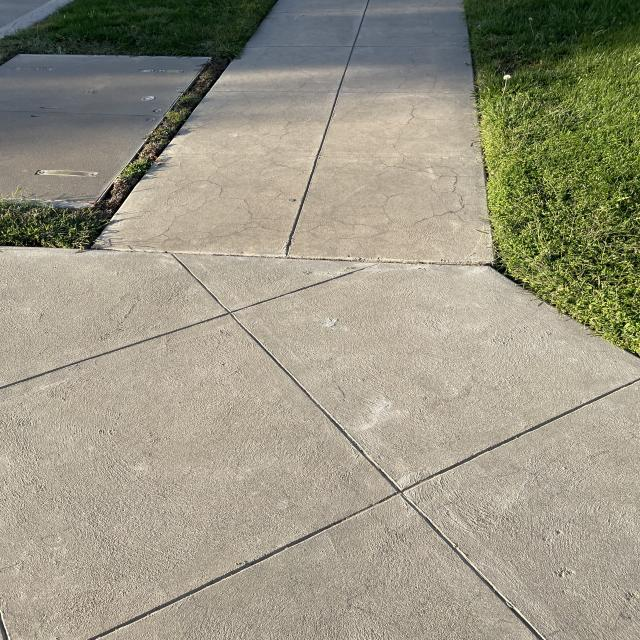walkway: (65, 484, 502, 622), (76, 399, 504, 529), (91, 305, 496, 439), (118, 230, 480, 354), (150, 172, 489, 274), (188, 118, 479, 192), (231, 70, 472, 138), (268, 15, 468, 88)
